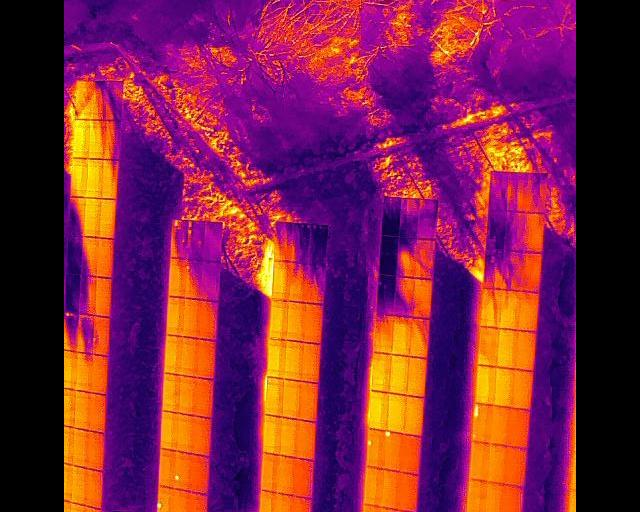Cell: (173, 450, 192, 490), (384, 429, 402, 470), (368, 428, 384, 468), (64, 312, 79, 351)
Cell-Multi: (171, 219, 190, 258), (188, 220, 204, 259), (157, 486, 174, 512)
No-Anomaly: (513, 368, 535, 407), (402, 433, 421, 475), (408, 354, 427, 396), (390, 351, 408, 395), (479, 326, 499, 365), (520, 290, 540, 329), (295, 419, 314, 460), (506, 447, 527, 484), (500, 289, 519, 329), (523, 250, 542, 290), (293, 458, 312, 498), (364, 466, 383, 506), (413, 277, 432, 317), (202, 298, 220, 340), (392, 314, 410, 356), (401, 470, 419, 512), (405, 394, 423, 436), (491, 405, 510, 444), (510, 408, 529, 447), (517, 330, 536, 369), (373, 314, 392, 353), (301, 342, 319, 383), (494, 367, 513, 405), (524, 213, 543, 251), (72, 119, 91, 157), (470, 442, 489, 479), (477, 365, 496, 402), (165, 335, 183, 374), (182, 338, 200, 377), (192, 454, 210, 493), (262, 415, 280, 454), (369, 390, 387, 429), (268, 337, 285, 378), (383, 468, 400, 509), (179, 413, 196, 453), (184, 298, 201, 338), (196, 377, 213, 417), (199, 339, 216, 379), (298, 380, 315, 420), (305, 301, 322, 341), (92, 353, 109, 393), (272, 298, 288, 340), (162, 412, 180, 449), (88, 392, 106, 429), (164, 373, 181, 412), (170, 257, 187, 296), (71, 157, 88, 196), (261, 453, 278, 492), (84, 197, 101, 236), (374, 352, 391, 391), (88, 430, 105, 469), (466, 479, 486, 512), (277, 454, 293, 495), (285, 339, 301, 380), (499, 329, 516, 367), (387, 392, 404, 430), (168, 295, 184, 335), (181, 375, 197, 415), (274, 259, 290, 299), (288, 300, 304, 340), (87, 157, 103, 197), (94, 314, 110, 354), (85, 469, 102, 506), (97, 237, 114, 274), (158, 448, 174, 487), (97, 276, 113, 315), (500, 484, 522, 512), (280, 416, 295, 457), (77, 352, 93, 390), (267, 377, 283, 415), (196, 415, 211, 455), (101, 197, 116, 237), (283, 379, 298, 419), (489, 444, 505, 481), (71, 466, 86, 503), (486, 481, 503, 512), (75, 389, 88, 429), (74, 430, 88, 467), (173, 488, 189, 512), (189, 491, 207, 512), (275, 492, 292, 512), (292, 495, 311, 512), (260, 490, 274, 512), (362, 504, 380, 512), (70, 503, 84, 512)
Shadowing: (525, 172, 546, 212), (485, 247, 504, 289), (481, 287, 501, 326), (507, 171, 526, 212), (203, 220, 222, 260), (397, 237, 416, 277), (488, 171, 507, 210), (505, 248, 523, 289), (411, 316, 429, 357), (417, 197, 435, 238), (308, 223, 327, 261), (377, 276, 396, 314), (186, 259, 204, 298), (488, 208, 506, 247), (307, 261, 324, 302), (400, 196, 417, 237), (506, 211, 524, 249), (204, 260, 221, 300), (380, 236, 397, 276), (76, 80, 93, 119), (77, 313, 94, 352), (82, 236, 99, 275), (383, 197, 400, 236), (396, 277, 413, 316), (416, 238, 433, 277), (290, 261, 306, 302), (107, 80, 124, 118), (104, 159, 120, 199), (80, 274, 96, 314), (69, 196, 85, 235), (64, 273, 80, 312), (67, 235, 83, 273), (291, 223, 307, 261), (106, 118, 121, 158), (90, 118, 105, 158), (92, 79, 107, 118), (275, 222, 290, 260)
Unclassified: (472, 403, 492, 442)
